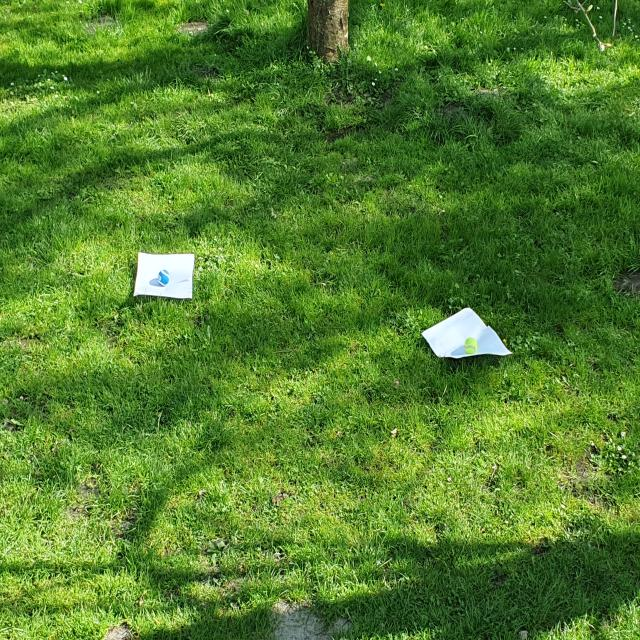blue: (158, 270, 170, 286)
green: (464, 337, 478, 354)
